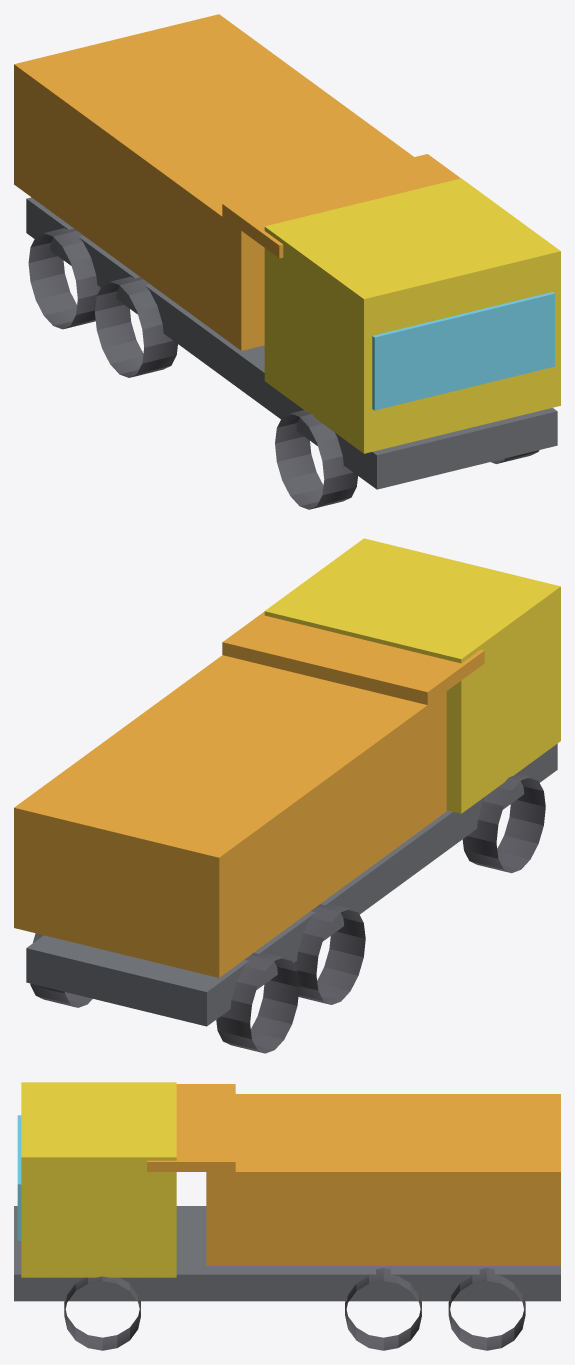
Rendered from dump_truck.glb.
3 renders of one model, top to bottom at view 1: azimuth 30°, elevation 25°; view 2: azimuth 150°, elevation 25°; view 3: azimuth 270°, elevation 25°, orthographic. The views are drawn at different scales.
Parts seen in each view (by area): view 1: DumpBed (×2), DumpCabBody, DumpTruckChassis, DumpWindshield, DumpWheelL_-1.2, DumpWheelL_2.6, DumpWheelL_-2.6; view 2: DumpBed (×2), DumpCabBody, DumpTruckChassis, DumpWheelL_-2.6, DumpWheelL_2.6, DumpWheelL_-1.2, DumpWheelR_-2.6; view 3: DumpBed (×2), DumpCabBody, DumpTruckChassis, DumpWheelR_-2.6, DumpWheelR_-1.2, DumpWheelR_2.6, DumpWindshield.
Part boxes in pixels (bbox=[...]): DumpBed (×2): bbox=[14, 14, 460, 350]; DumpCabBody: bbox=[264, 178, 560, 453]; DumpTruckChassis: bbox=[26, 197, 557, 489]; DumpWindshield: bbox=[372, 292, 554, 410]; DumpWheelL_-1.2: bbox=[95, 276, 177, 377]; DumpWheelL_2.6: bbox=[275, 410, 357, 509]; DumpWheelL_-2.6: bbox=[28, 228, 100, 329]; DumpBed (×2): bbox=[14, 611, 484, 977]; DumpCabBody: bbox=[264, 538, 560, 813]; DumpTruckChassis: bbox=[26, 743, 557, 1026]; DumpWheelL_-2.6: bbox=[216, 952, 299, 1053]; DumpWheelL_2.6: bbox=[462, 773, 545, 873]; DumpWheelL_-1.2: bbox=[293, 904, 365, 1004]; DumpWheelR_-2.6: bbox=[30, 933, 92, 1007]; DumpBed (×2): bbox=[147, 1084, 560, 1265]; DumpCabBody: bbox=[21, 1082, 176, 1277]; DumpTruckChassis: bbox=[14, 1206, 560, 1301]; DumpWheelR_-2.6: bbox=[448, 1268, 525, 1350]; DumpWheelR_-1.2: bbox=[345, 1268, 421, 1350]; DumpWheelR_2.6: bbox=[64, 1276, 140, 1350]; DumpWindshield: bbox=[17, 1115, 21, 1240].
Bounding box in the file's own units: 2.7 × 2.82 × 7.4.
